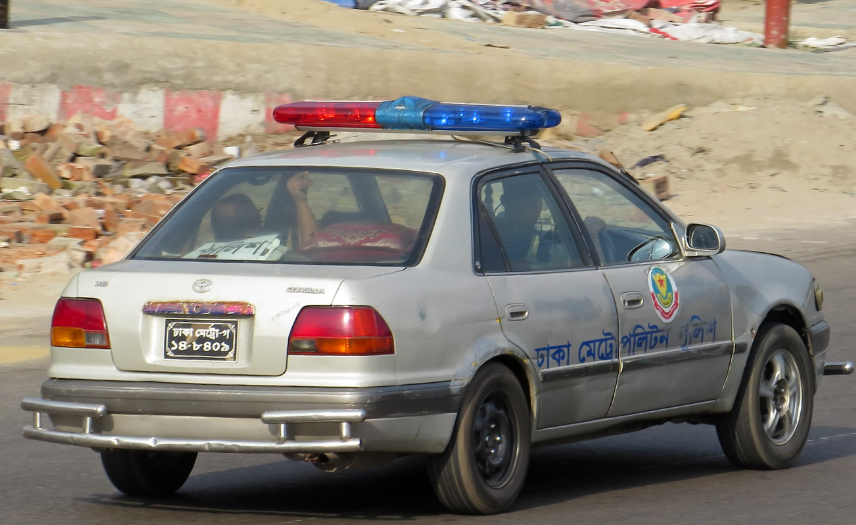Police cars: (26, 86, 833, 513)
